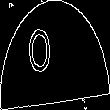O_S: (42, 27, 68, 83)
